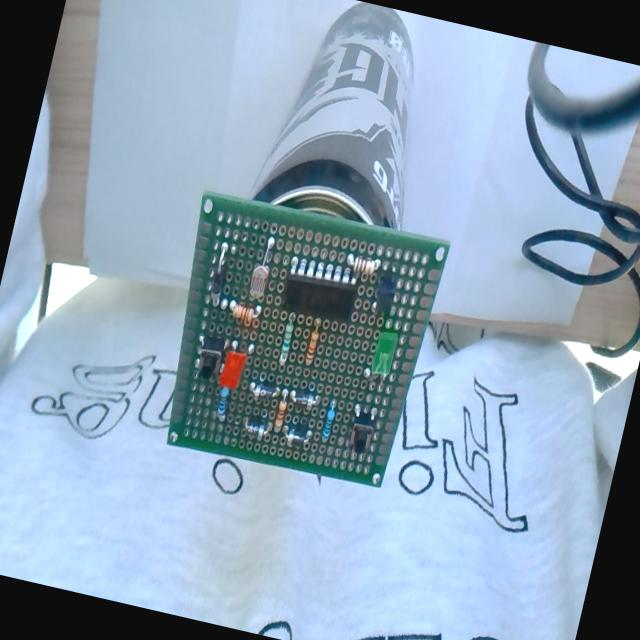IC: (276, 251, 364, 325)
cds: (240, 230, 282, 302)
diode: (199, 236, 232, 314), (277, 413, 317, 454), (286, 379, 324, 416), (238, 408, 274, 443), (244, 372, 282, 405)
led: (355, 322, 406, 396), (216, 333, 254, 398)
resistor: (219, 288, 268, 328), (272, 308, 304, 368), (334, 240, 383, 278), (314, 391, 342, 448), (268, 380, 292, 438), (298, 318, 325, 368), (207, 386, 234, 424)
switch: (338, 398, 383, 462), (184, 325, 229, 382)
transistor: (368, 262, 408, 327)
